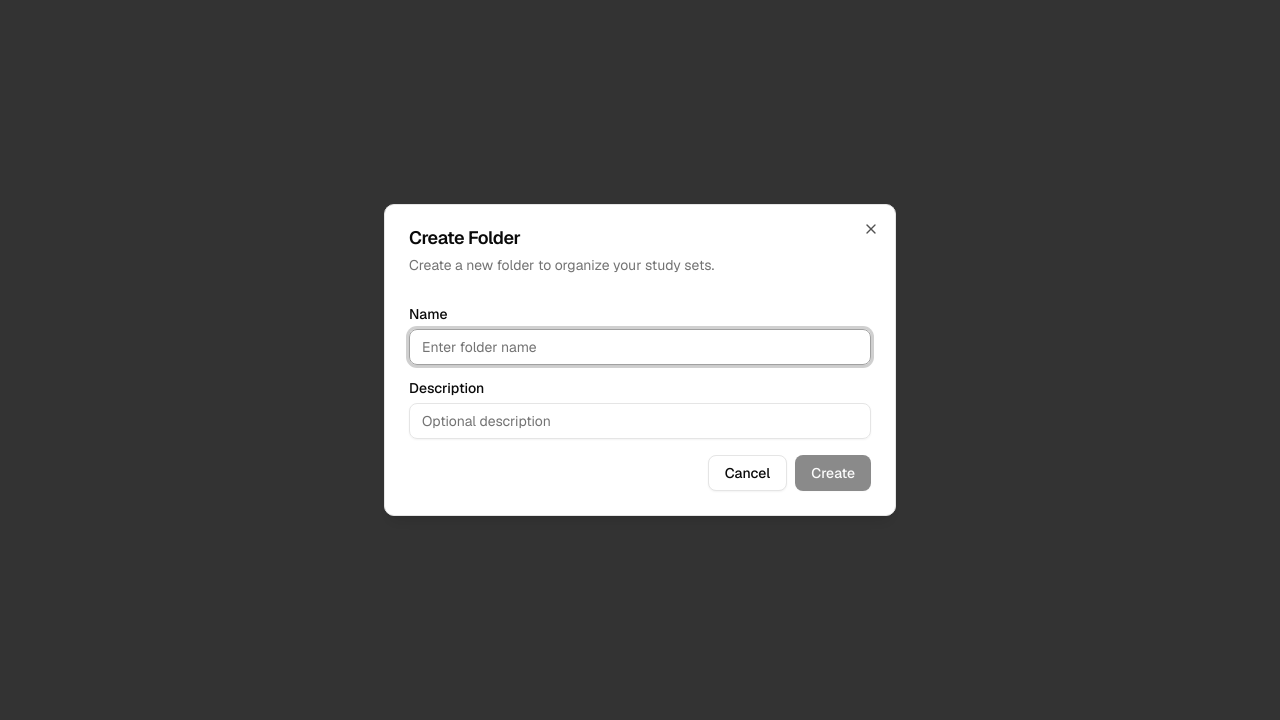
CreateFolderModal › form submission › shows loading state during submission
The width and height of the screenshot is (1280, 720).
Type "My Folder" into the field labelled "Name" at (640, 347), box x1=409 y1=329 x2=871 y2=365
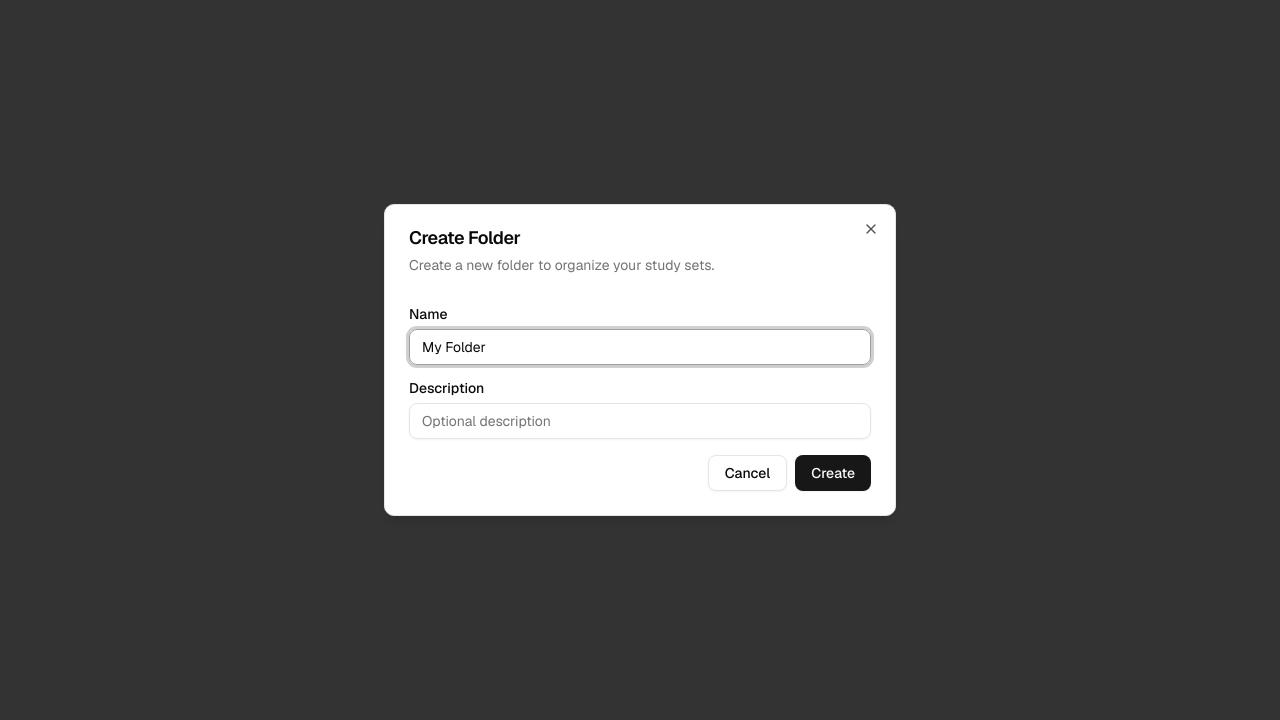
Click the button "Create" at (833, 473), box x1=795 y1=455 x2=871 y2=491
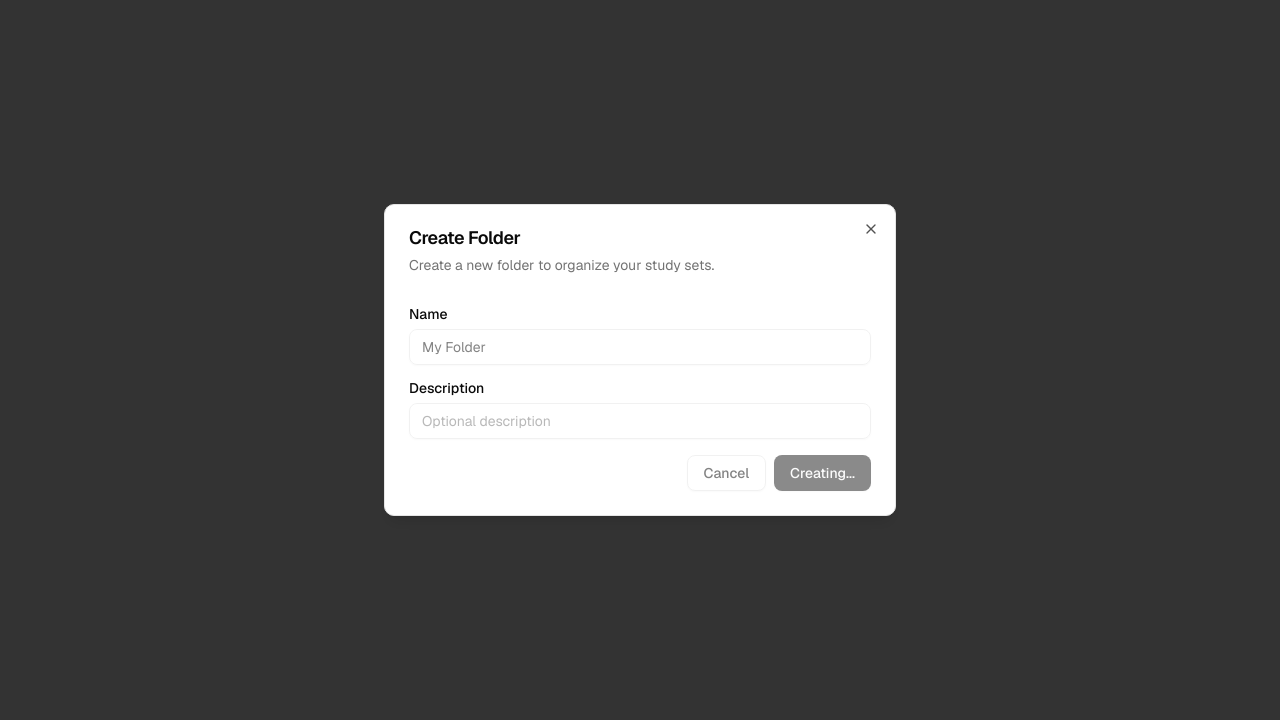
Now the button "Creating..." is disabled, box x1=774 y1=455 x2=871 y2=491
